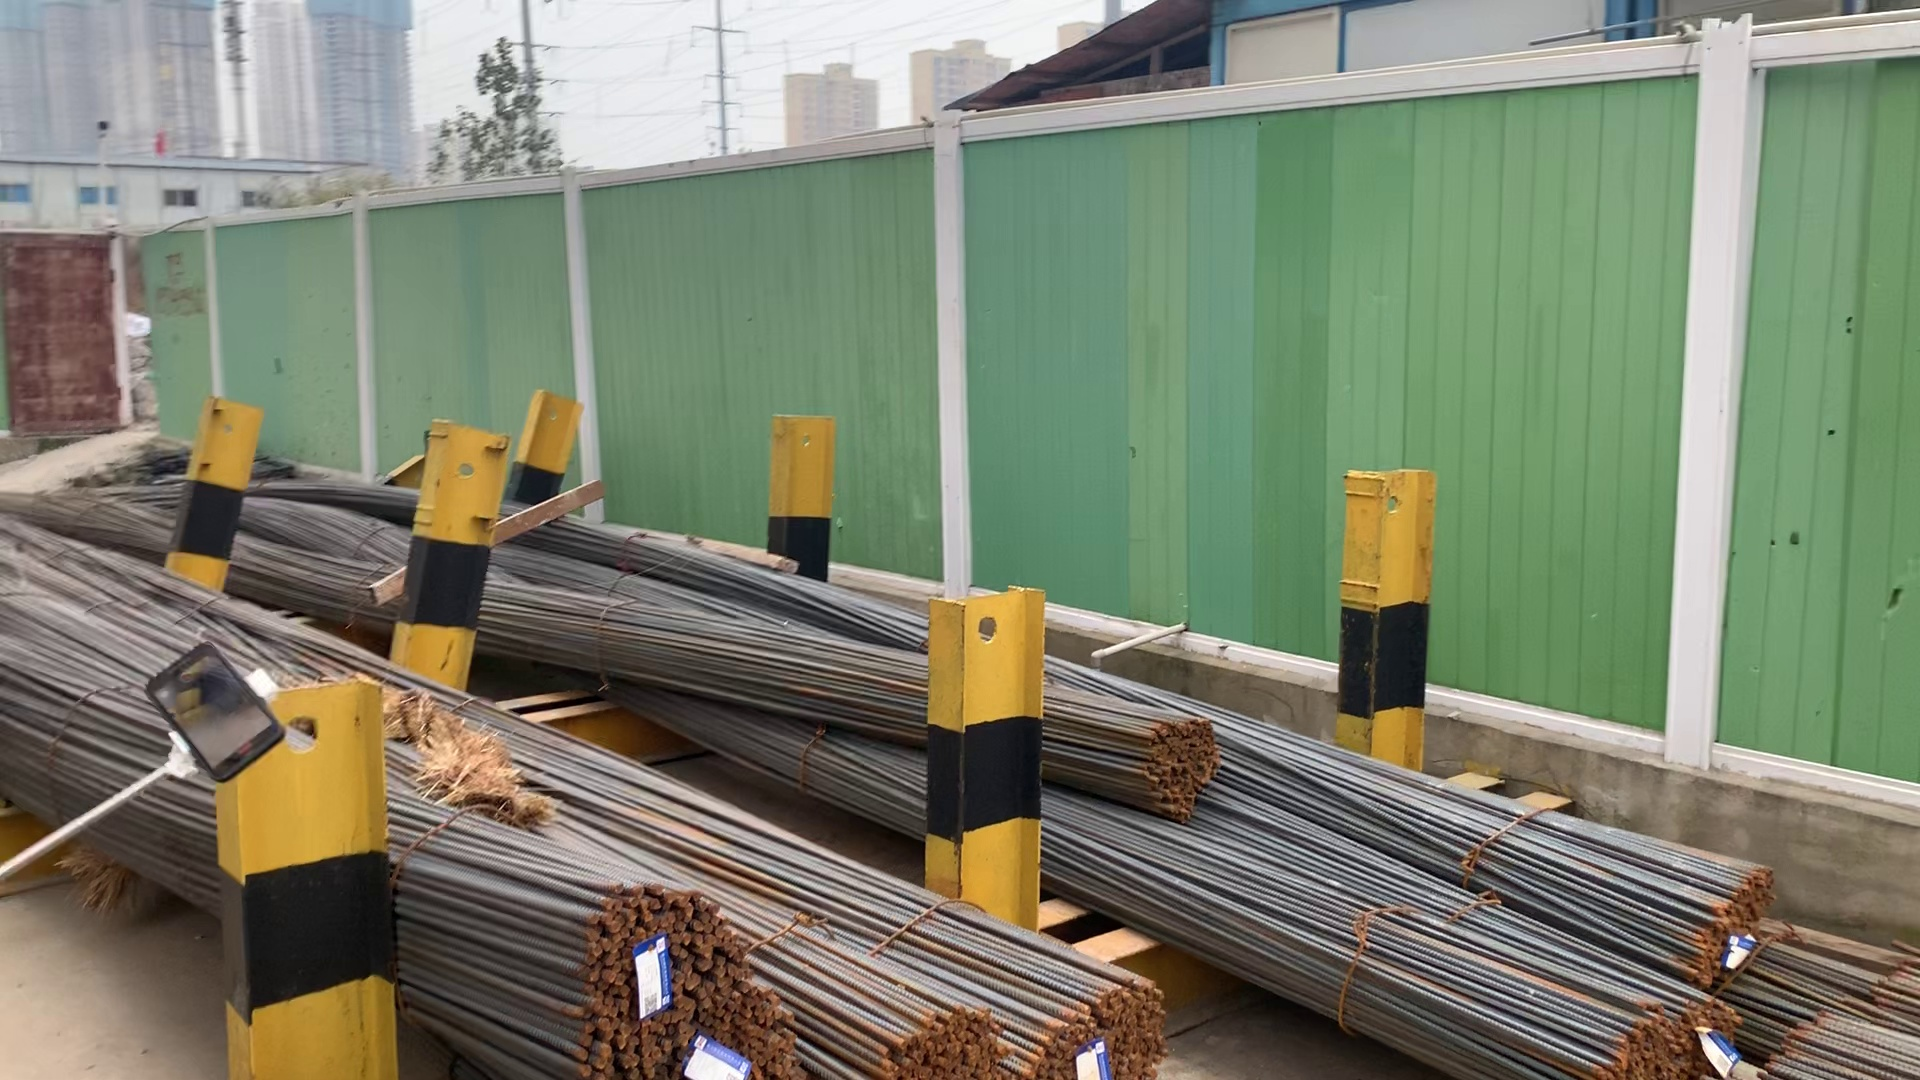rebar: (580, 885, 793, 1080), (1018, 973, 1164, 1080), (1581, 993, 1745, 1080), (1138, 704, 1224, 822), (1691, 861, 1774, 980), (874, 1007, 998, 1080)
